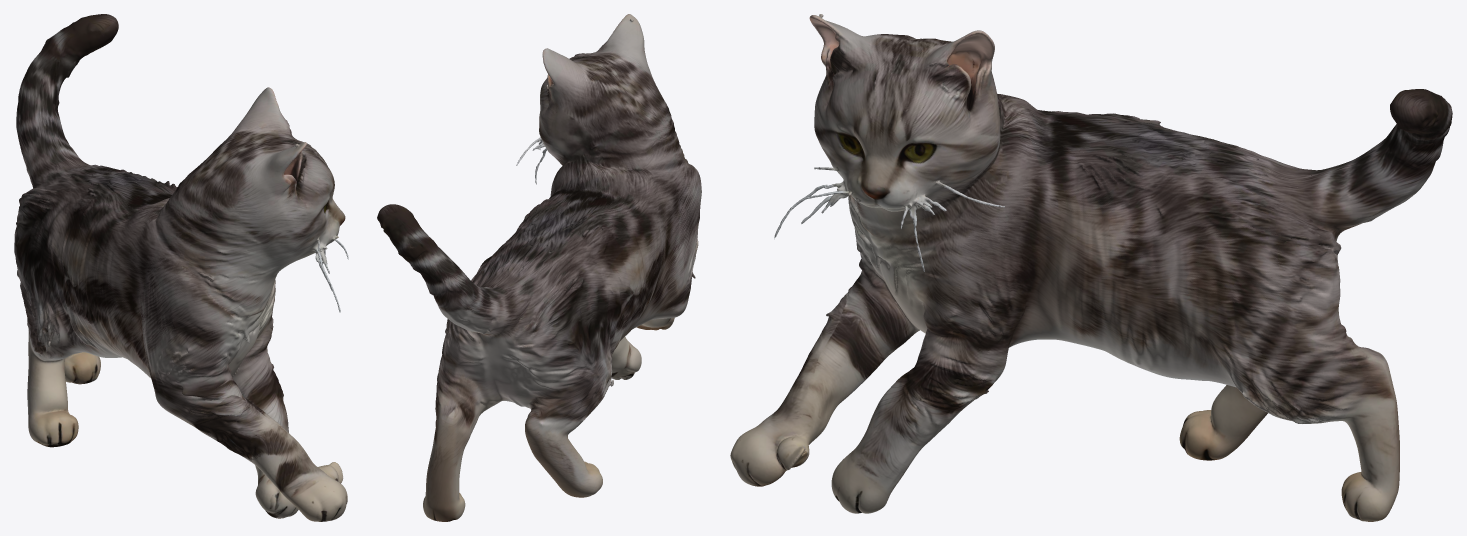
File: cat_run2.glb
3 renders of one model, left to right at view 1: azimuth 30°, elevation 25°; view 2: azimuth 150°, elevation 25°; view 3: azimuth 270°, elevation 25°, orthographic. The views are drawn at different scales.
Parts seen in each view (by area): view 1: tripo_node_7ab694c6-82ef-4016-814b-0dc3157c4cd6; view 2: tripo_node_7ab694c6-82ef-4016-814b-0dc3157c4cd6; view 3: tripo_node_7ab694c6-82ef-4016-814b-0dc3157c4cd6.
Part boxes in pixels (<box>): tripo_node_7ab694c6-82ef-4016-814b-0dc3157c4cd6: <box>14,14,348,521</box>; tripo_node_7ab694c6-82ef-4016-814b-0dc3157c4cd6: <box>377,14,701,521</box>; tripo_node_7ab694c6-82ef-4016-814b-0dc3157c4cd6: <box>730,14,1452,521</box>.
Size of the model in its own units: 0.3871 by 0.7791 by 1.
Materials: 1 (1 with a texture image).
